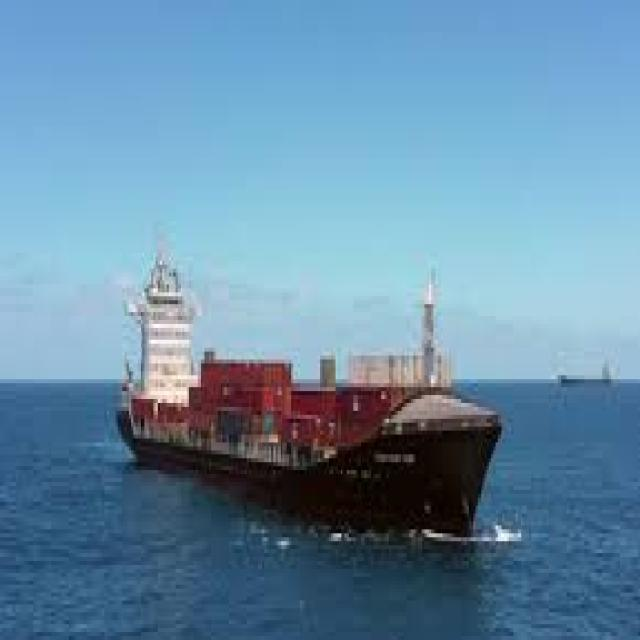cargoship: (120, 238, 503, 532)
